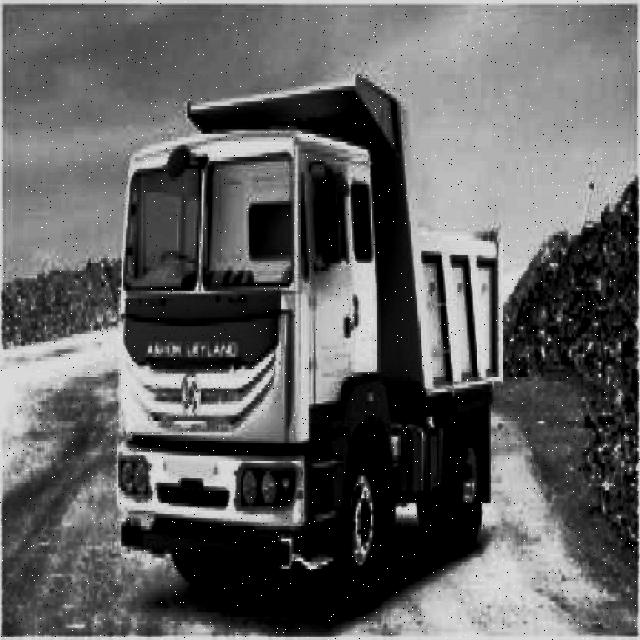HCV: (143, 112, 501, 603)
